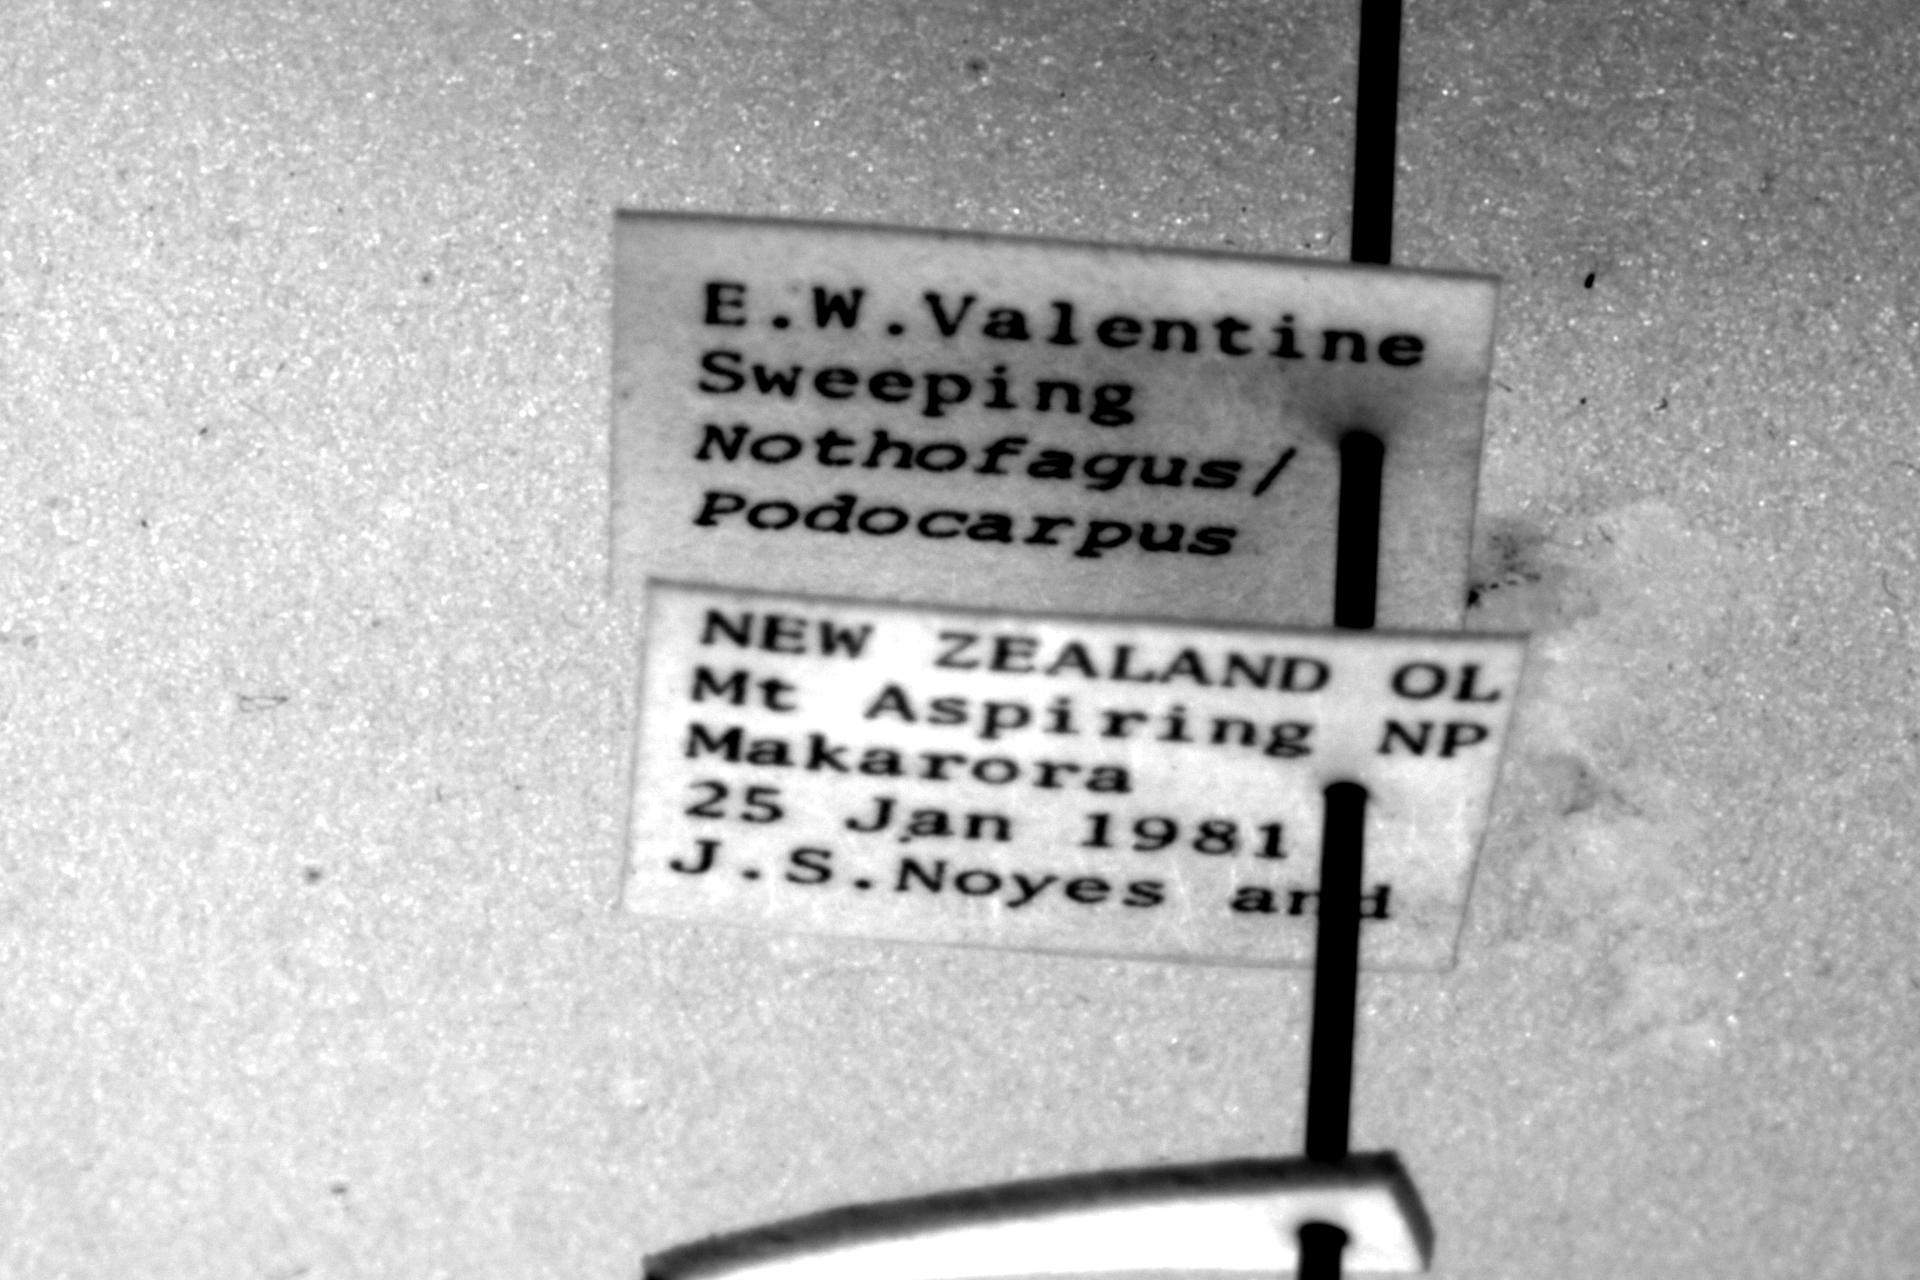typed_label: (611, 210, 1496, 630), (623, 586, 1523, 971)
